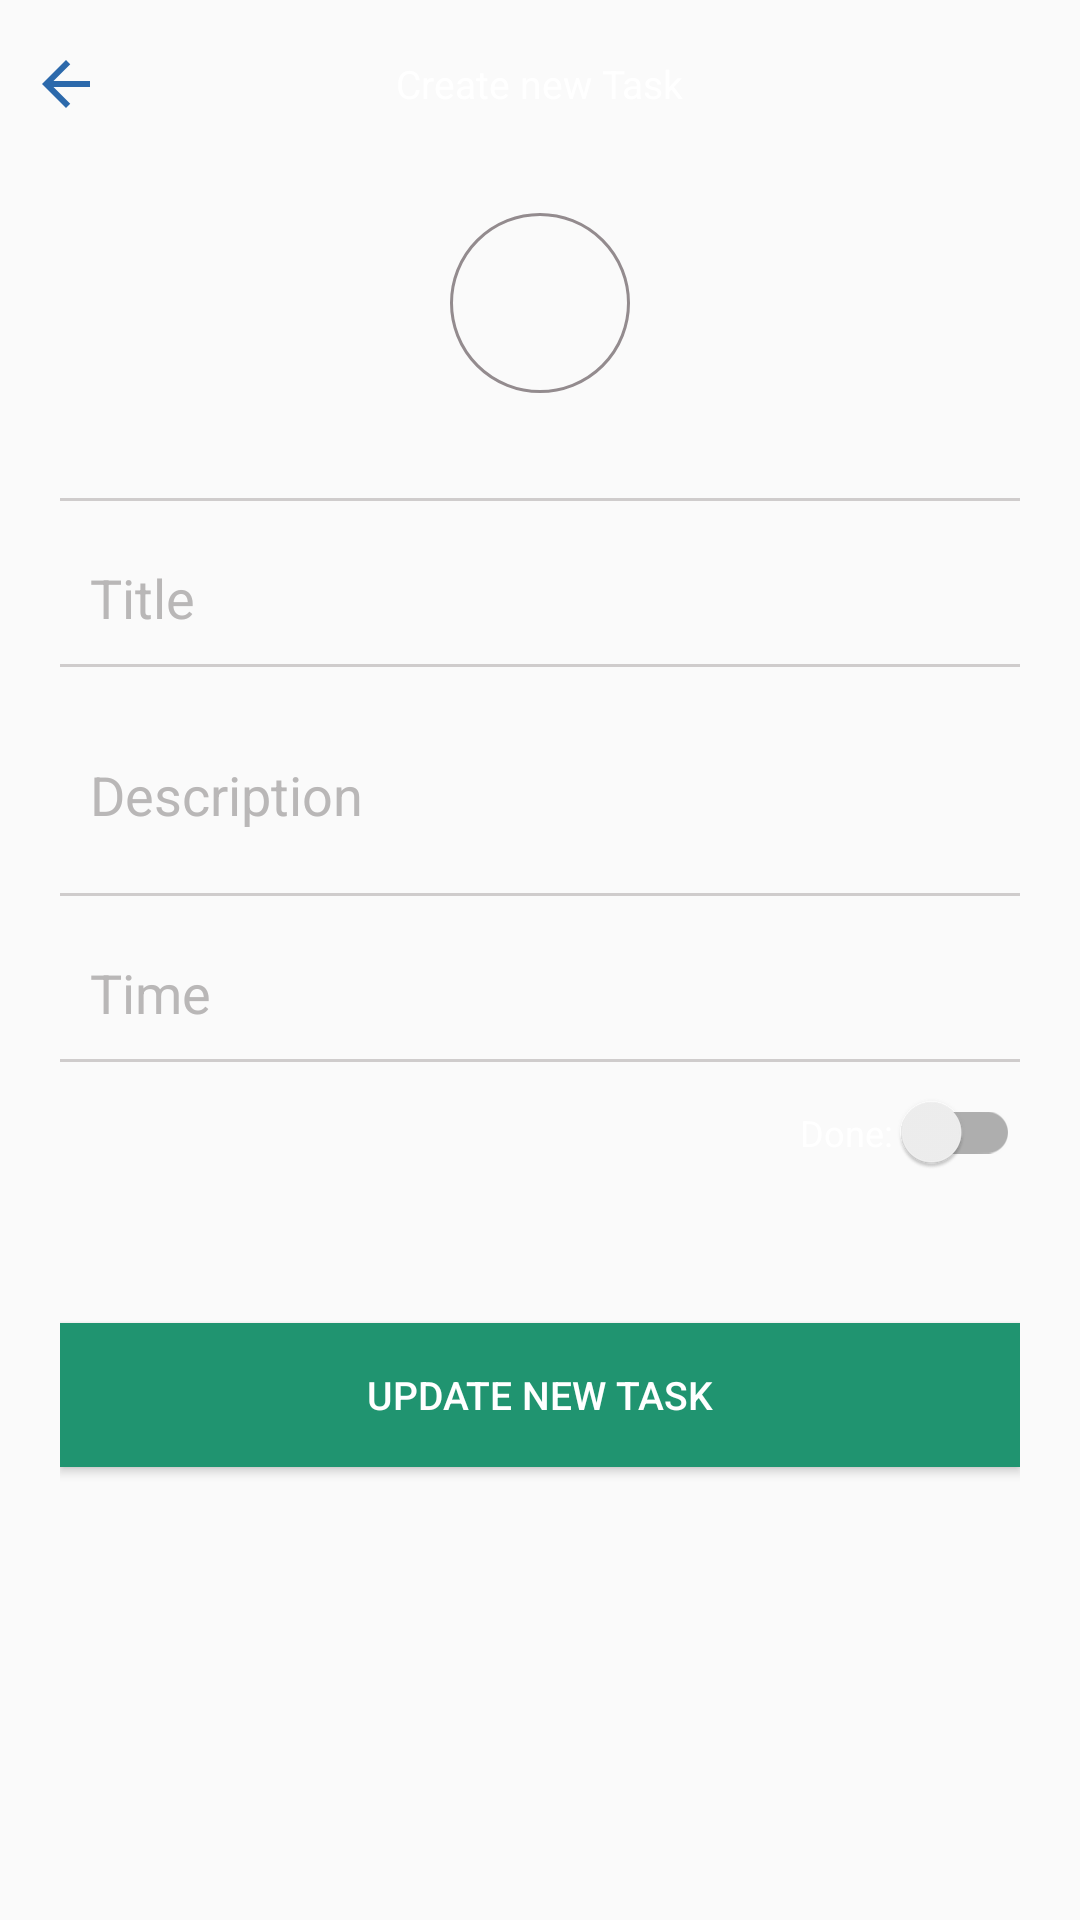

Locate icon controls on the screen. Image size 1080w x 1920h, boxes as bbox(x1, y1, x2, y2).
arrow: bbox(42, 60, 90, 108)
